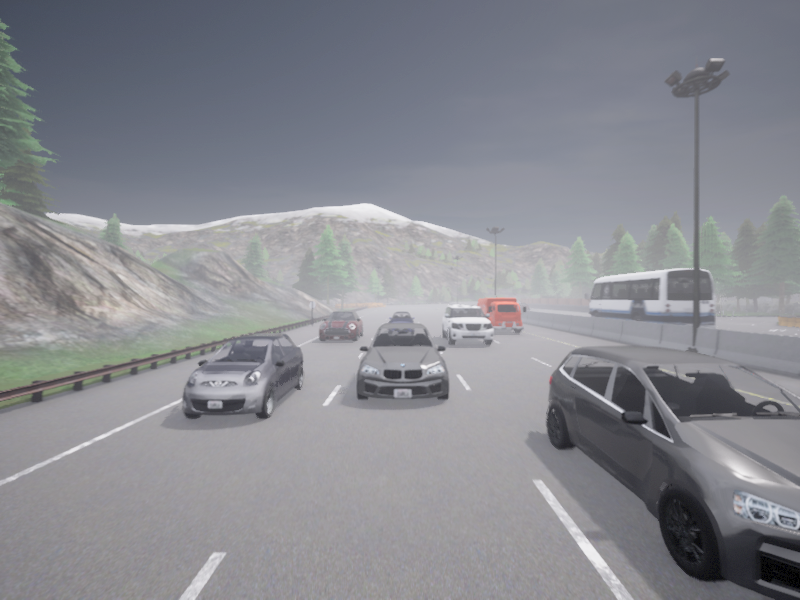vehicle: (547, 346, 799, 599), (182, 333, 303, 417), (585, 268, 714, 328), (357, 323, 448, 399), (442, 305, 493, 344), (478, 298, 525, 333), (319, 310, 362, 341), (389, 312, 414, 322), (519, 303, 528, 310)
